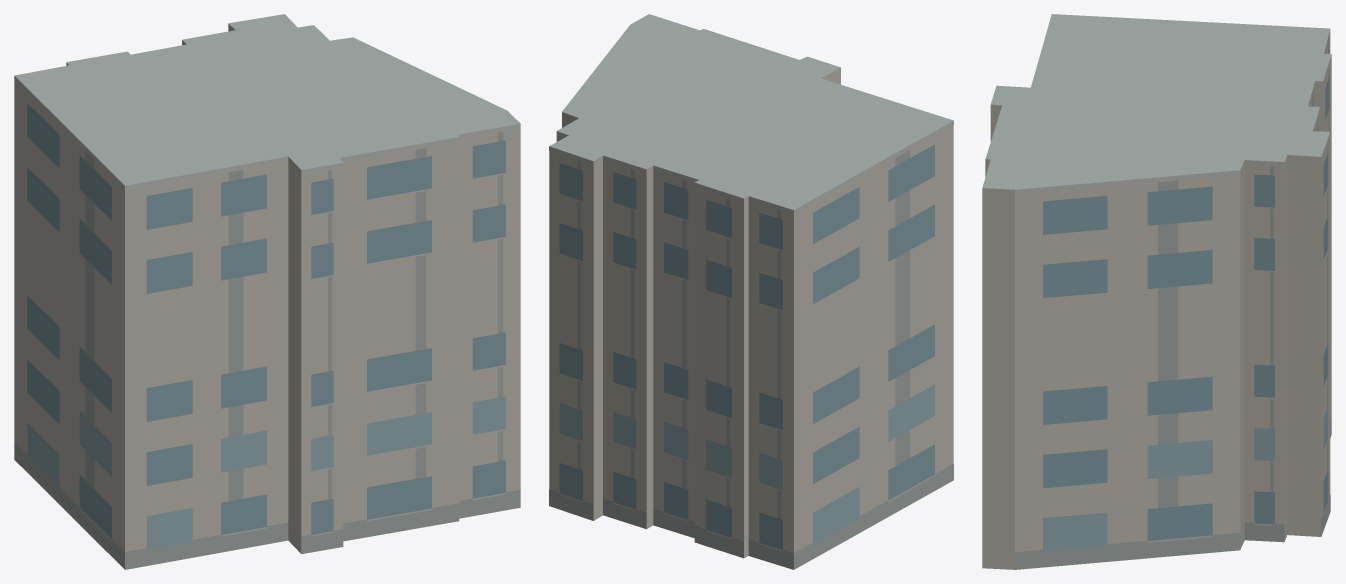
The model's file is survey-upis-32939331.glb.
The picture shows the model from 3 angles, left to right: view 1: azimuth 30°, elevation 25°; view 2: azimuth 150°, elevation 25°; view 3: azimuth 270°, elevation 25°; orthographic projection. The views are drawn at different scales.
Parts seen in each view (by area): view 1: survey-upis-32939331.tmp; view 2: survey-upis-32939331.tmp; view 3: survey-upis-32939331.tmp.
Part boxes in pixels (x1,y1,x2,y2): survey-upis-32939331.tmp: (14,14,520,569); survey-upis-32939331.tmp: (549,14,953,569); survey-upis-32939331.tmp: (982,14,1331,569).
Bounding box in the file's own units: 18.3 × 18.45 × 15.38.
